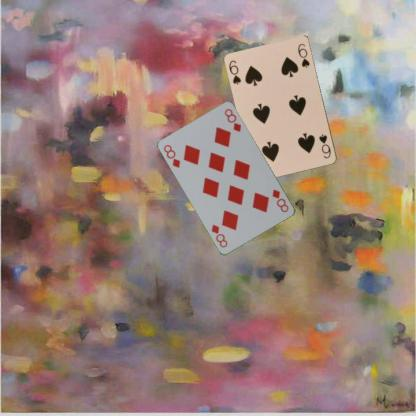6s: (317, 132, 332, 160), (227, 58, 242, 86)
8d: (161, 142, 182, 169), (270, 186, 290, 214)
